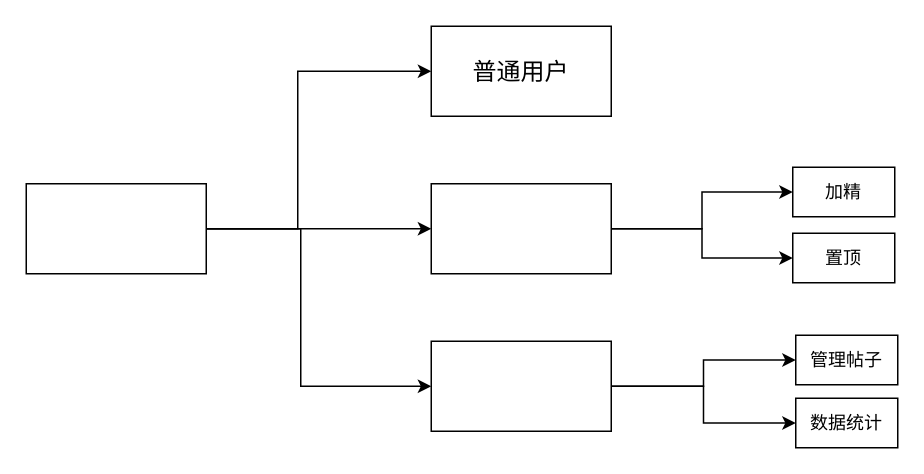
Image size: 924x474. Some labels were removed from this diagram. Each missing label, with the box of its shape:
权限模块: (25, 182, 206, 274)
版主: (430, 182, 611, 274)
管理员用户: (430, 340, 611, 431)
